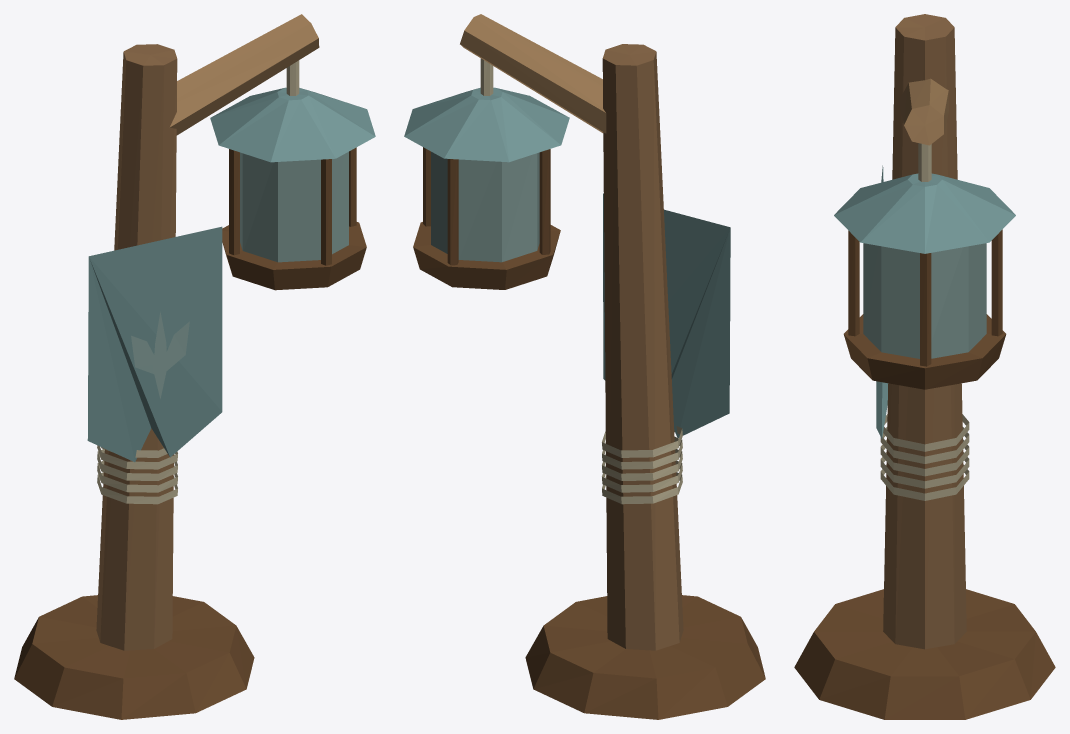
Rendered from jungle_lantern.glb.
3 views of the same model, side by side, from view 1: azimuth 30°, elevation 25°; view 2: azimuth 150°, elevation 25°; view 3: azimuth 270°, elevation 25° (orthographic). The views are drawn at different scales.
Parts seen in each view (by area): view 1: WoodlandMesh; view 2: WoodlandMesh; view 3: WoodlandMesh.
Boxes of the visible parts, x1,y1,x2,y2 form: WoodlandMesh: (14, 14, 375, 719); WoodlandMesh: (404, 14, 765, 719); WoodlandMesh: (794, 14, 1055, 719).
Size of the model in its own units: 1.66 by 2.91 by 1.06.
